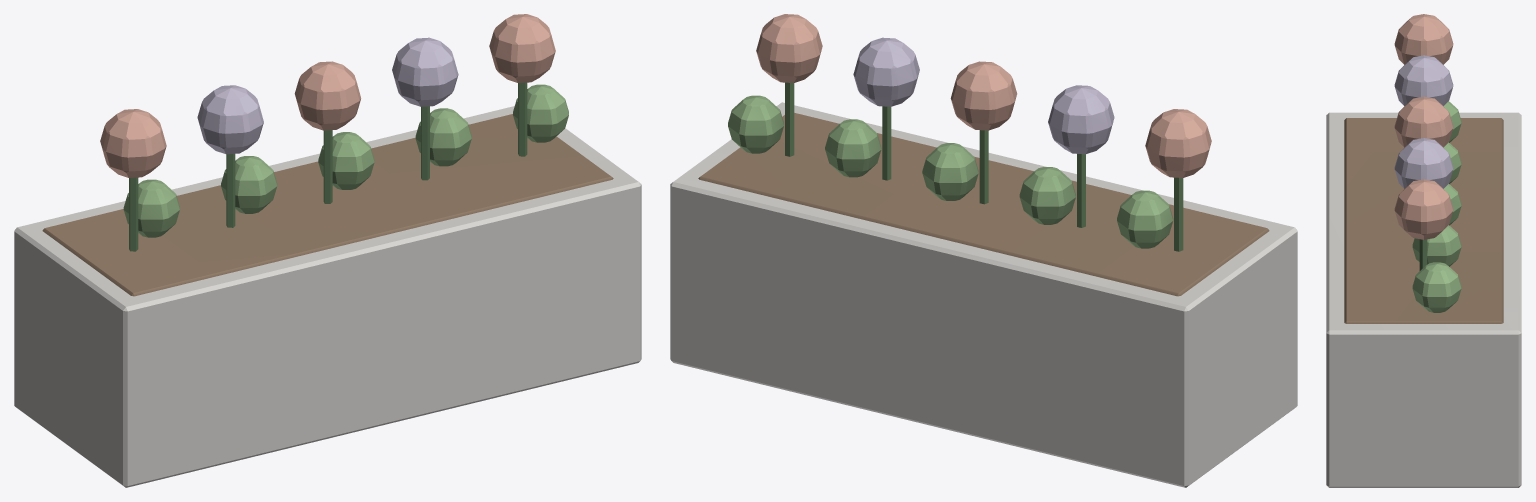
File: furn_planter_box__white.glb
3 renders of one model, left to right at view 1: azimuth 30°, elevation 25°; view 2: azimuth 150°, elevation 25°; view 3: azimuth 270°, elevation 25°, orthographic. The views are drawn at different scales.
Bounding box in the file's own units: 1.2 × 0.71 × 0.45.
